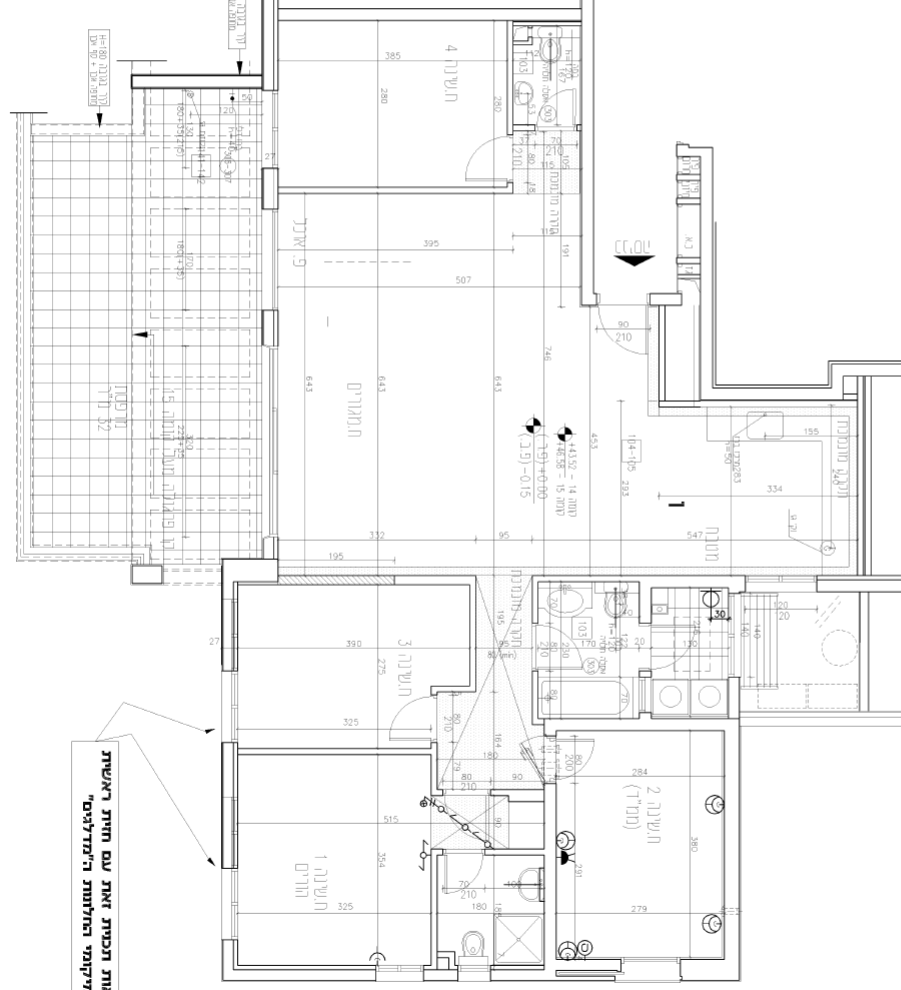door: (385, 689, 448, 753), (545, 729, 608, 793), (524, 620, 587, 684), (590, 295, 653, 359), (647, 619, 710, 683), (458, 129, 521, 193)
window: (252, 335, 281, 542), (612, 952, 693, 984), (738, 570, 825, 598), (216, 662, 241, 747), (216, 852, 241, 937), (371, 959, 425, 990), (445, 958, 499, 989)
